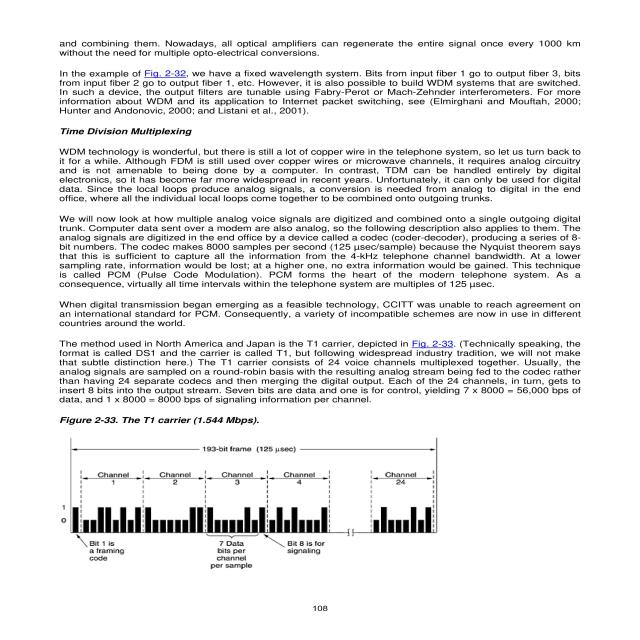diagram: (48, 412, 570, 640)
